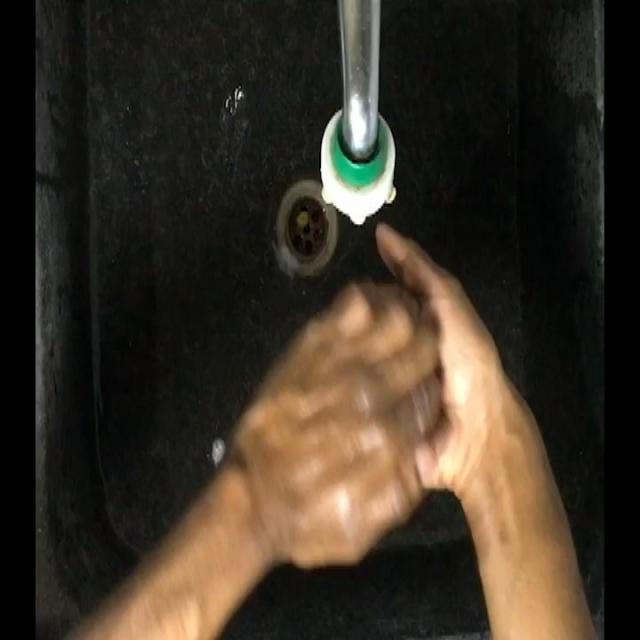step_4: (259, 222, 479, 555)
